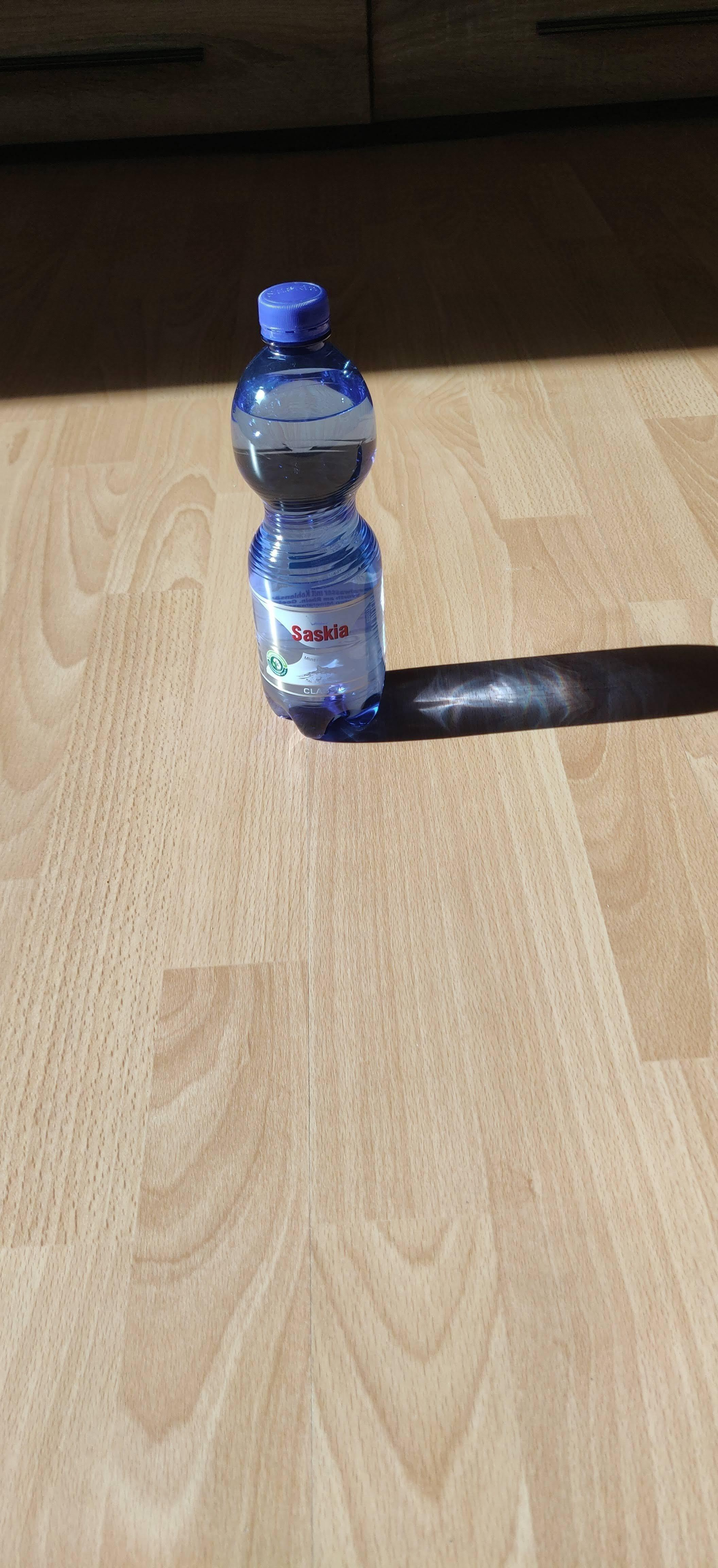bottle-plastic: (226, 277, 392, 740)
